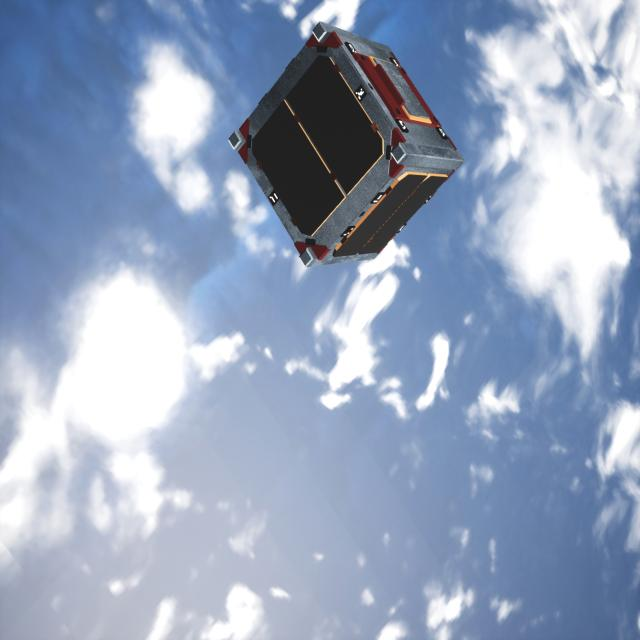satellite: (221, 24, 467, 262)
